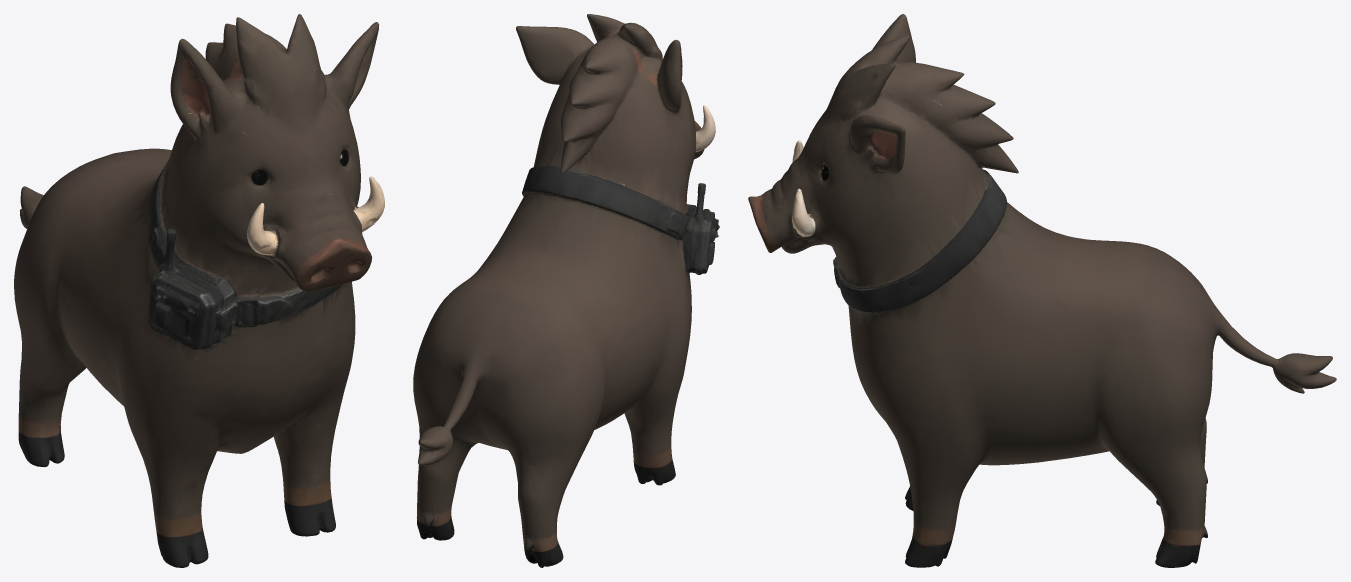
Rendered from Meshy_AI_Signal_Boar_0513073643_texture.fbx.
3 renders of one model, left to right at view 1: azimuth 30°, elevation 25°; view 2: azimuth 150°, elevation 25°; view 3: azimuth 270°, elevation 25°, orthographic. The views are drawn at different scales.
Visible parts, largest first — view 1: Mesh_0; view 2: Mesh_0; view 3: Mesh_0.
Boxes of the visible parts, x1,y1,x2,y2 form: Mesh_0: (14, 14, 384, 567); Mesh_0: (413, 14, 719, 567); Mesh_0: (748, 14, 1336, 567).
Bounding box in the file's own units: 80.24 × 175 × 191.
Materials: 1 (1 with a texture image).
